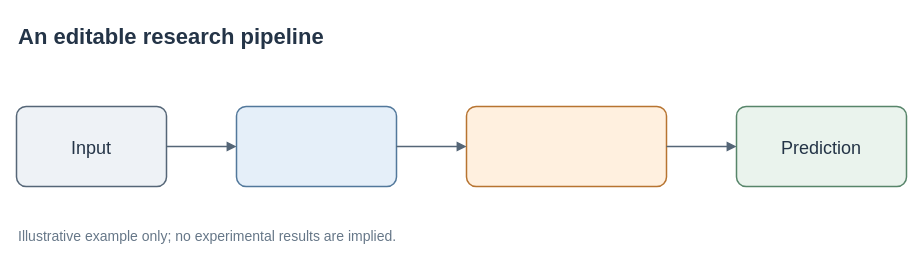
This 923x268 diagram has some shape labels left out. Each missing label, with the centre of its shape:
Encoder: the point at 316,146
Evidence fusion: the point at 566,146
